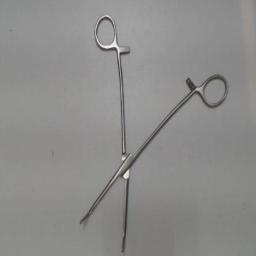Lahey Forceps: (74, 12, 230, 252)
